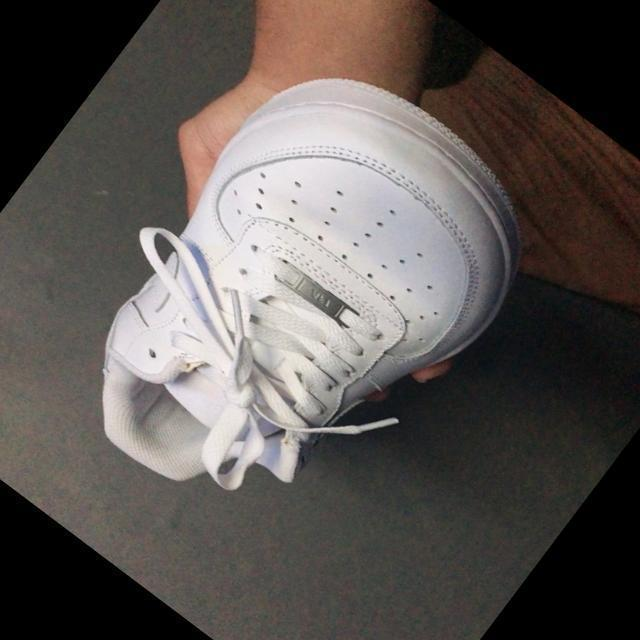nike fake air force: (30, 19, 581, 594)
